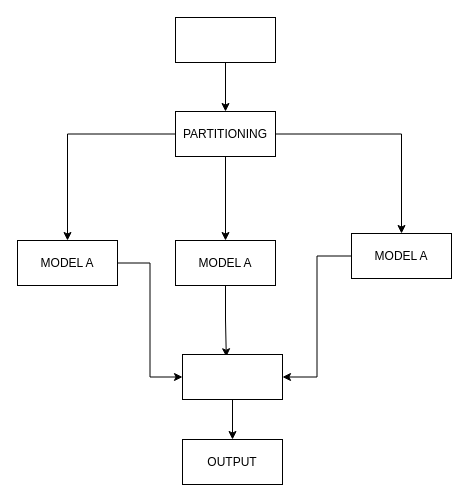
The diagram is 469 pixels wide and 502 high, and some of its shapes have lost their labels. The centre of each missing label's shape, as x and y in pixels:
"DATASET" belongs at [225,39].
"META-MODEL" belongs at [232,377].
